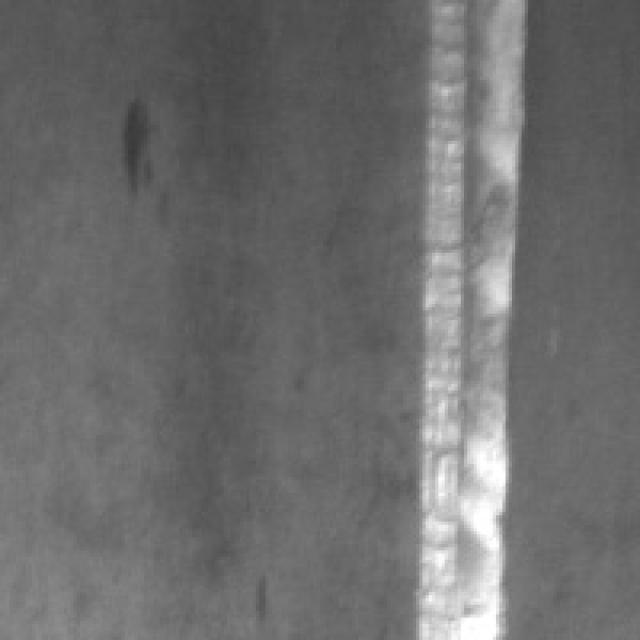inclusion: (109, 86, 160, 198)
scratches: (406, 0, 528, 634)
